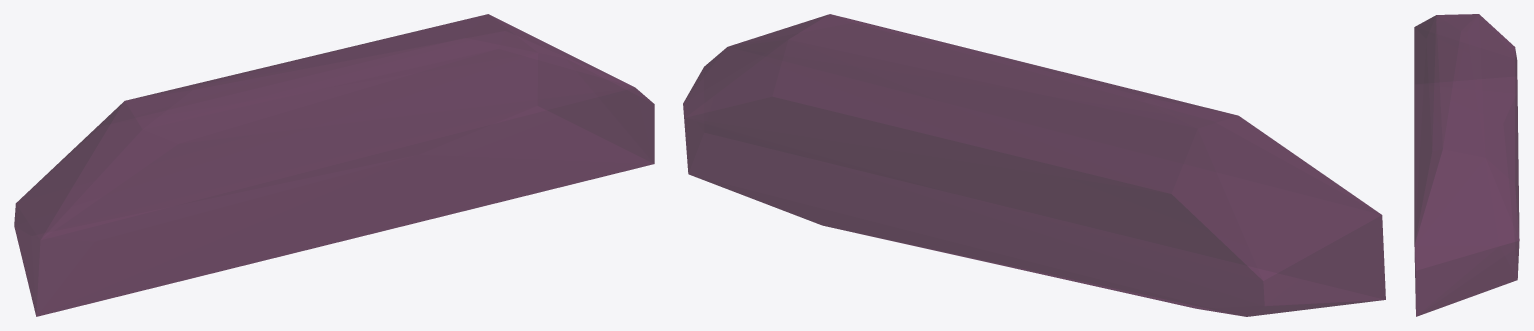
3 renders of one model, left to right at view 1: azimuth 30°, elevation 25°; view 2: azimuth 150°, elevation 25°; view 3: azimuth 270°, elevation 25°, orthographic. The views are drawn at different scales.
Parts seen in each view (by area): view 1: Shape_IndexedFaceSet.009_Shape_IndexedFaceSet.9056; view 2: Shape_IndexedFaceSet.009_Shape_IndexedFaceSet.9056; view 3: Shape_IndexedFaceSet.009_Shape_IndexedFaceSet.9056.
Part boxes in pixels (x1,y1,x2,y2): Shape_IndexedFaceSet.009_Shape_IndexedFaceSet.9056: (14, 14, 654, 316); Shape_IndexedFaceSet.009_Shape_IndexedFaceSet.9056: (683, 14, 1385, 316); Shape_IndexedFaceSet.009_Shape_IndexedFaceSet.9056: (1414, 14, 1519, 316).
Size of the model in its own units: 0.5495 by 0.1355 by 0.1043.
